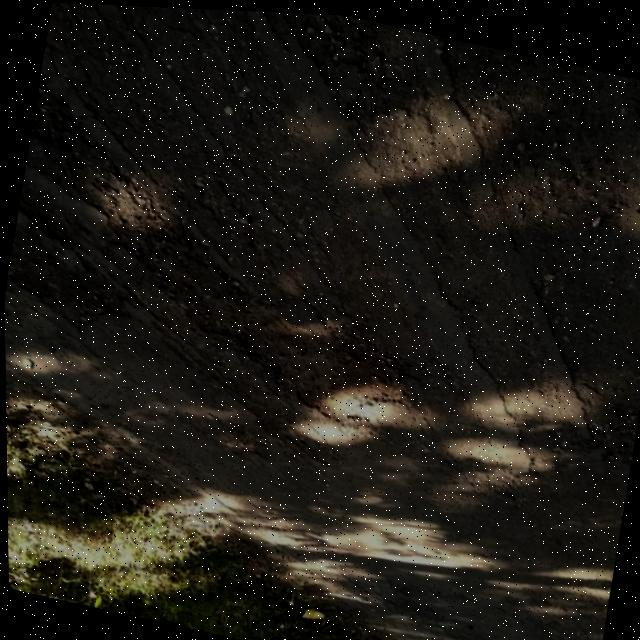Pothole: (214, 292, 414, 433), (3, 243, 137, 339)
